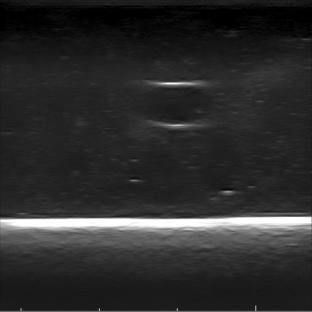vessel: (134, 81, 217, 129)
